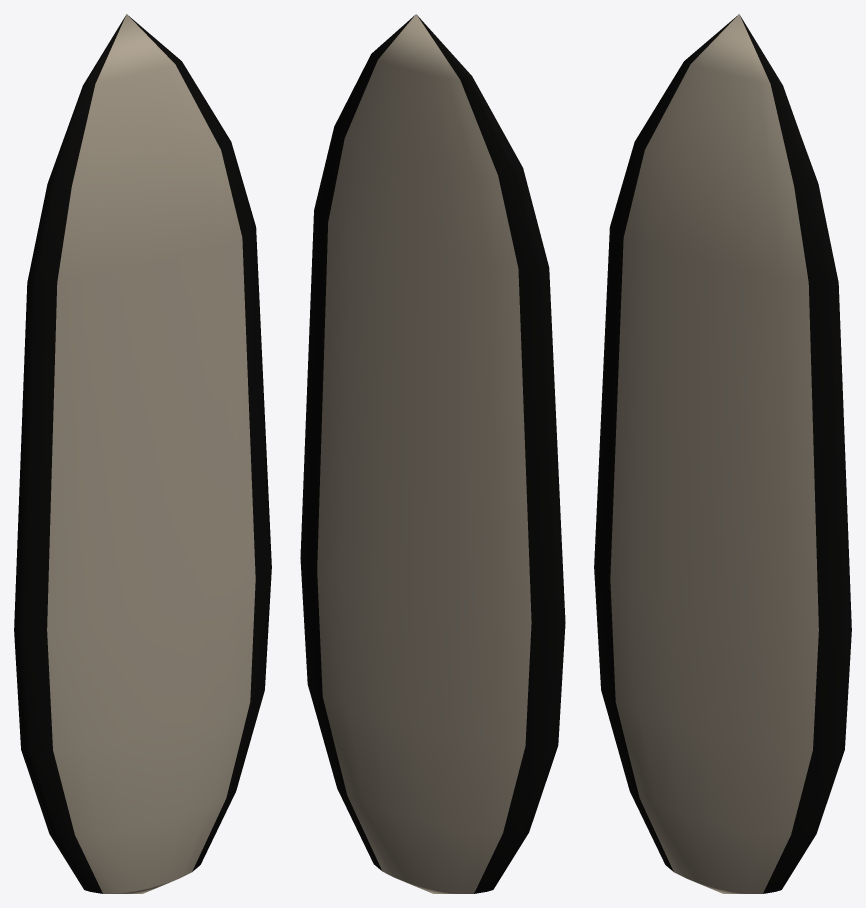
Rendered from Sports_SurfBoard.fbx.
3 views of the same model, side by side, from view 1: azimuth 30°, elevation 25°; view 2: azimuth 150°, elevation 25°; view 3: azimuth 330°, elevation 25° (orthographic). The views are drawn at different scales.
Visible parts, largest first — view 1: pasted__pCylinder20; view 2: pasted__pCylinder20; view 3: pasted__pCylinder20.
Boxes of the visible parts, x1=… form: pasted__pCylinder20: x1=14, y1=14, x2=271, y2=893; pasted__pCylinder20: x1=300, y1=14, x2=565, y2=893; pasted__pCylinder20: x1=594, y1=14, x2=851, y2=893.
Size of the model in its own units: 1.11 by 3.57 by 0.232.
